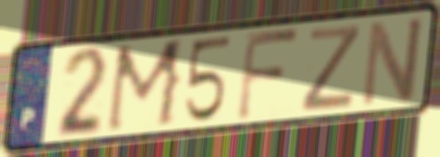2: (56, 44, 109, 143)
5: (183, 32, 235, 125)
F: (234, 27, 302, 124)
M: (102, 36, 188, 137)
N: (357, 13, 427, 111)
Z: (297, 22, 364, 114)
